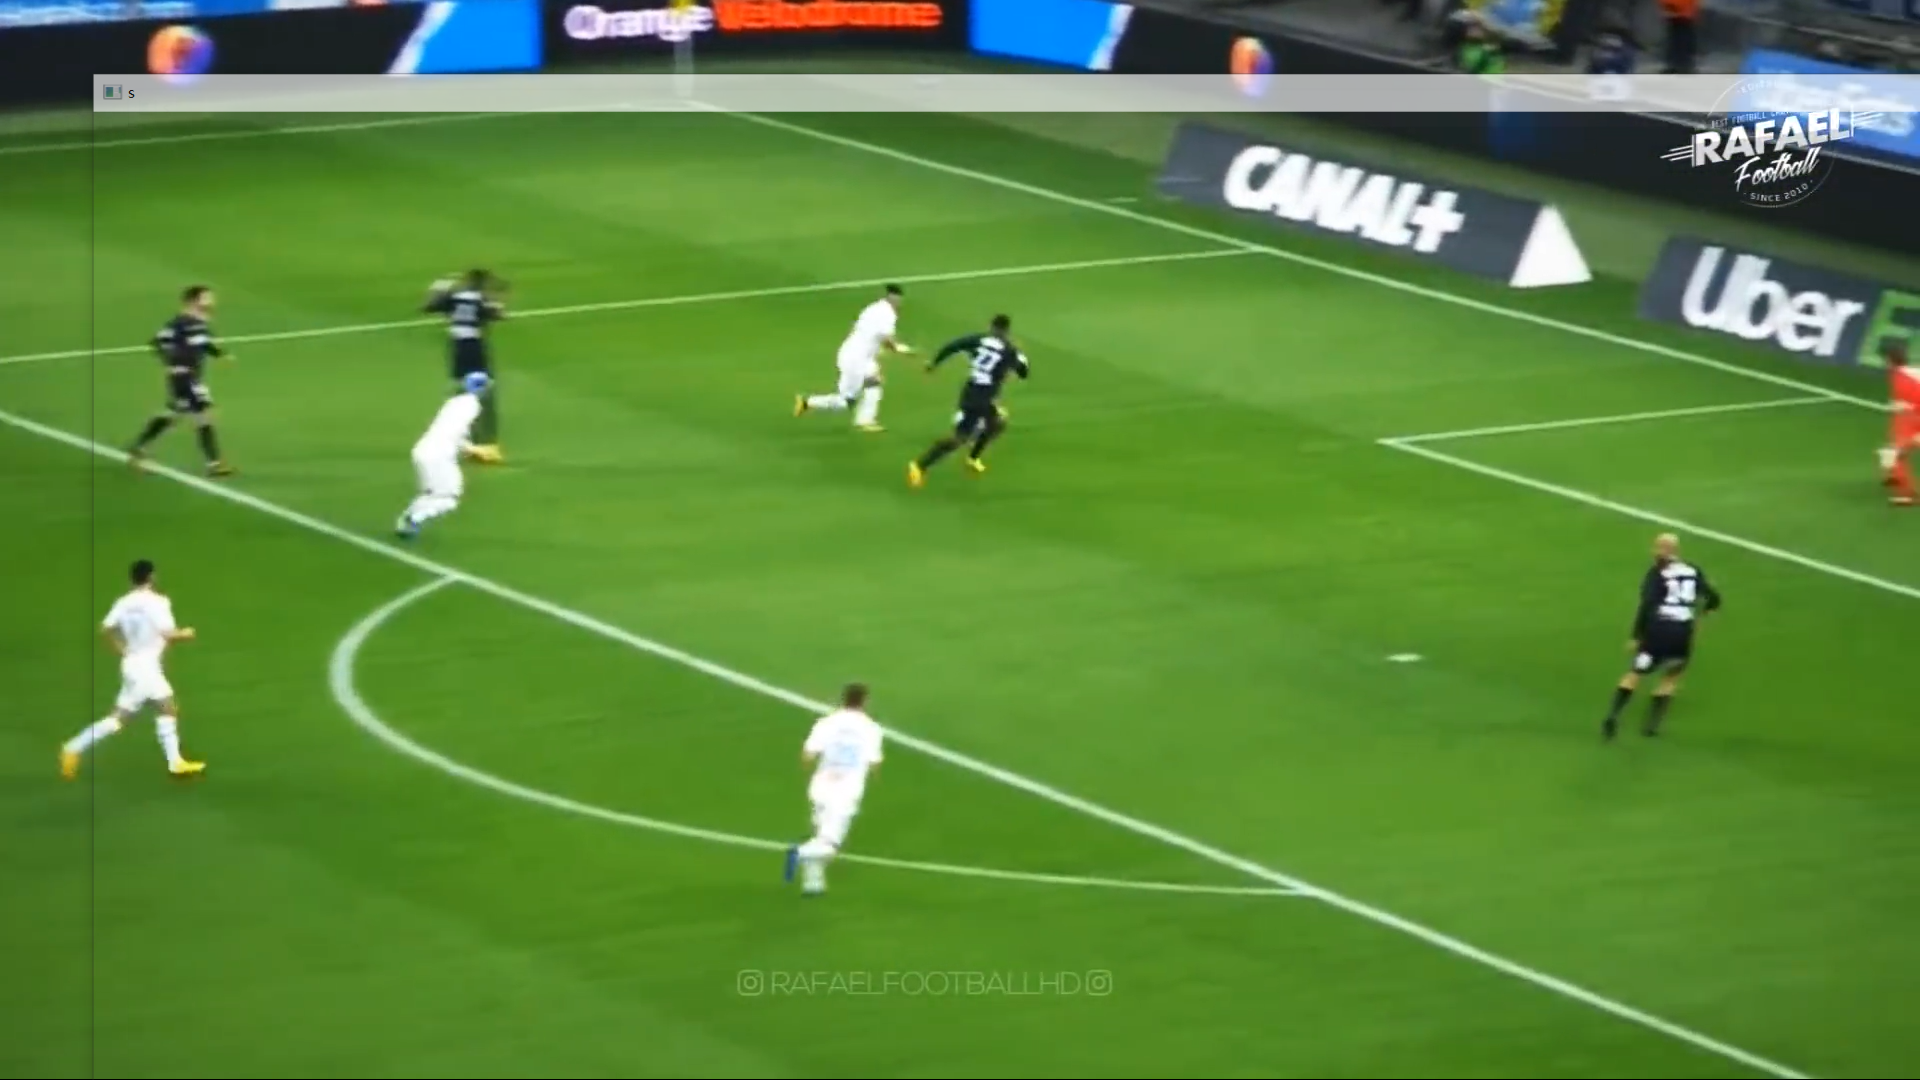ft: (953, 406, 986, 436)
